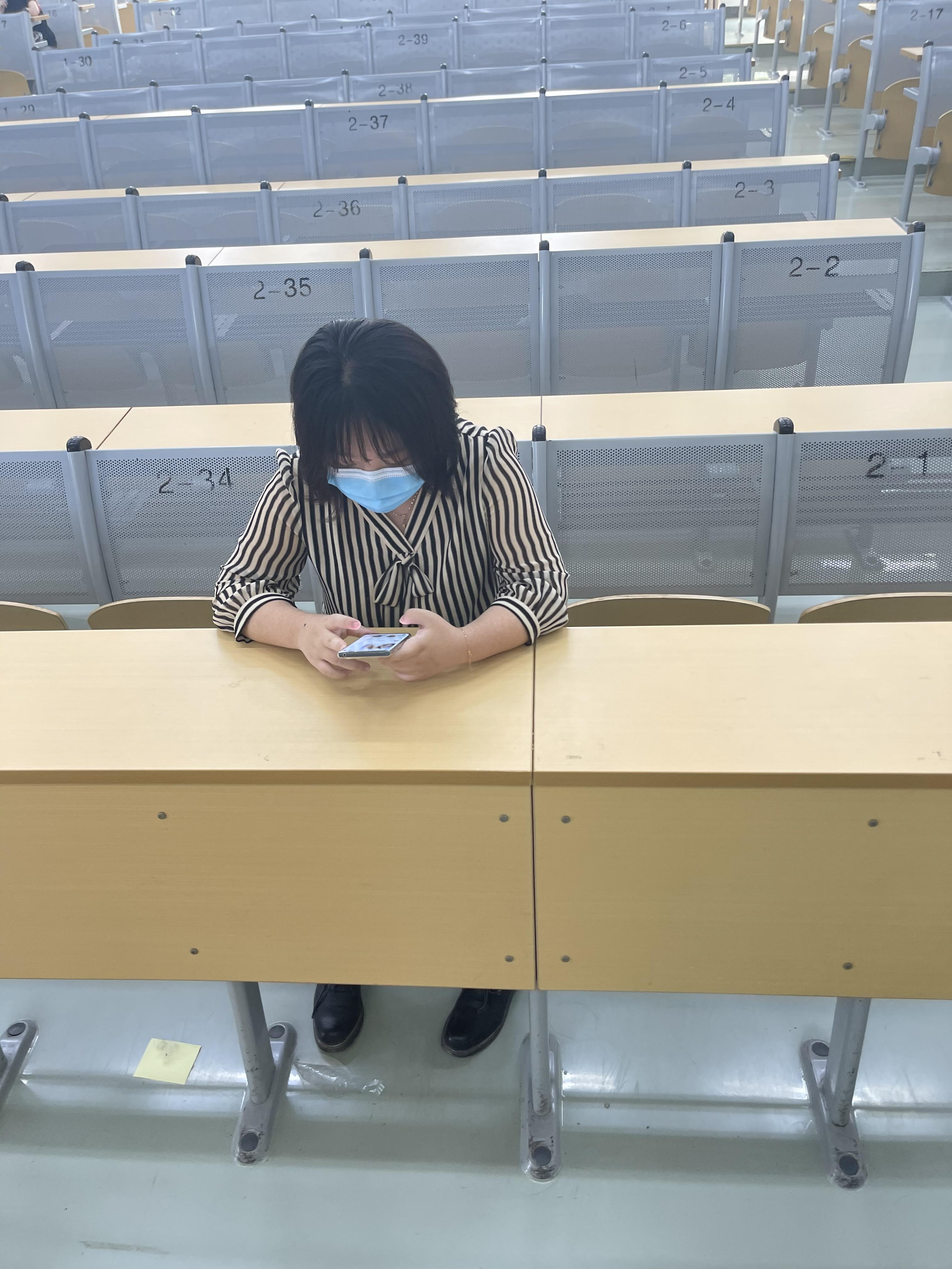phone: (213, 321, 568, 678)
